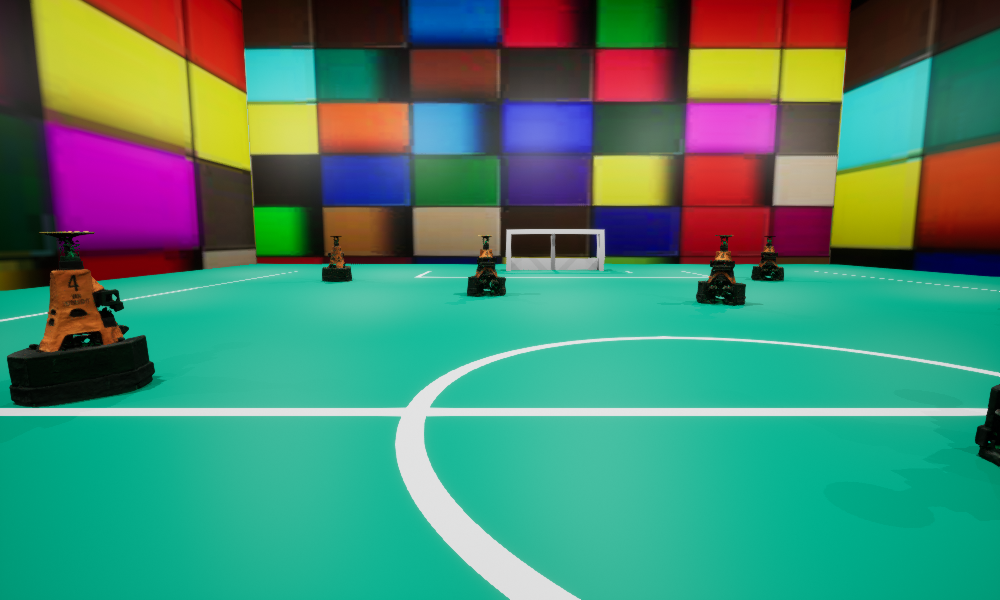o: (7, 231, 154, 406), (696, 235, 745, 304), (467, 235, 505, 296), (975, 384, 999, 465), (751, 236, 783, 280), (322, 236, 351, 281)
